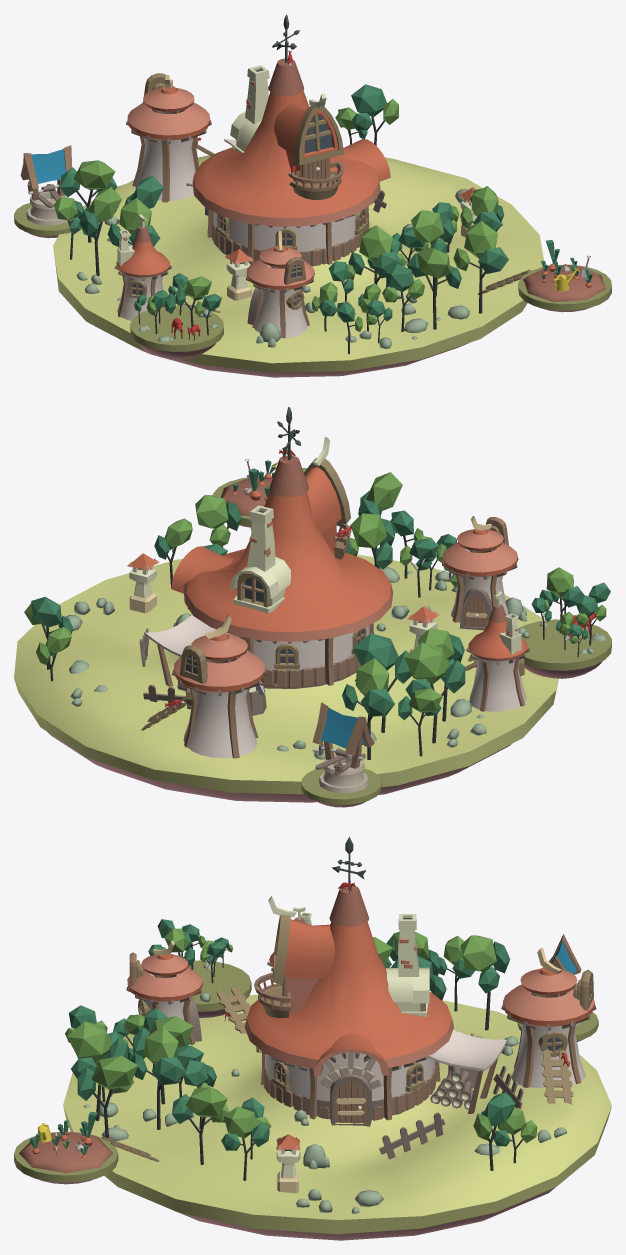
3 views of the same model, one above another, from view 1: azimuth 30°, elevation 25°; view 2: azimuth 150°, elevation 25°; view 3: azimuth 270°, elevation 25° (orthographic). The views are drawn at different scales.
Visible parts, largest first — view 1: pCylinder11, polySurface11, polySurface1188, polySurface12, polySurface345, polySurface342, polySurface16, polySurface1054, pCube205, polySurface840, pSphere1, polySurface1208 (+29 smaller); view 2: pCylinder11, polySurface11, polySurface345, polySurface1188, pSphere1, polySurface342, polySurface1122, polySurface1054, polySurface12, polySurface838, polySurface16, polySurface1522 (+35 smaller); view 3: pCylinder11, polySurface11, polySurface16, polySurface12, polySurface342, pCube205, polySurface1054, pSphere1, polySurface900, polySurface1188, polySurface345, polySurface838 (+31 smaller).
Boxes of the visible parts, x1,y1,x2,y2 form: pCylinder11: (53, 155, 543, 372); polySurface11: (192, 90, 380, 226); polySurface1188: (130, 305, 223, 351); polySurface12: (213, 208, 366, 251); polySurface345: (135, 110, 195, 200); polySurface342: (127, 102, 210, 140); polySurface16: (274, 100, 338, 182); polySurface1054: (335, 84, 398, 145); pCube205: (523, 264, 606, 302); polySurface840: (254, 265, 307, 337); pSphere1: (95, 326, 468, 377); polySurface1208: (518, 264, 611, 310); pCylinder11: (14, 554, 558, 794); polySurface11: (183, 491, 393, 641); polySurface345: (183, 659, 256, 758); polySurface1188: (518, 619, 611, 670); pSphere1: (47, 732, 511, 802); polySurface342: (173, 650, 265, 692); polySurface1122: (469, 658, 526, 711); polySurface1054: (24, 596, 73, 681); polySurface12: (244, 625, 369, 670); polySurface838: (442, 542, 517, 576); polySurface16: (305, 467, 341, 556); polySurface1522: (301, 768, 381, 804); pCylinder11: (63, 994, 611, 1234); polySurface11: (244, 922, 453, 1068); polySurface16: (284, 919, 335, 1014); polySurface12: (265, 1052, 434, 1101); polySurface342: (503, 984, 594, 1026); pCube205: (19, 1131, 113, 1172); polySurface1054: (473, 1092, 537, 1170); pSphere1: (179, 1187, 555, 1240); polySurface900: (427, 1030, 506, 1071); polySurface1188: (188, 960, 251, 1011); polySurface345: (511, 993, 585, 1087); polySurface838: (127, 967, 202, 1001).
Bounding box in the file's own units: 54.94 × 36.4 × 58.8.
